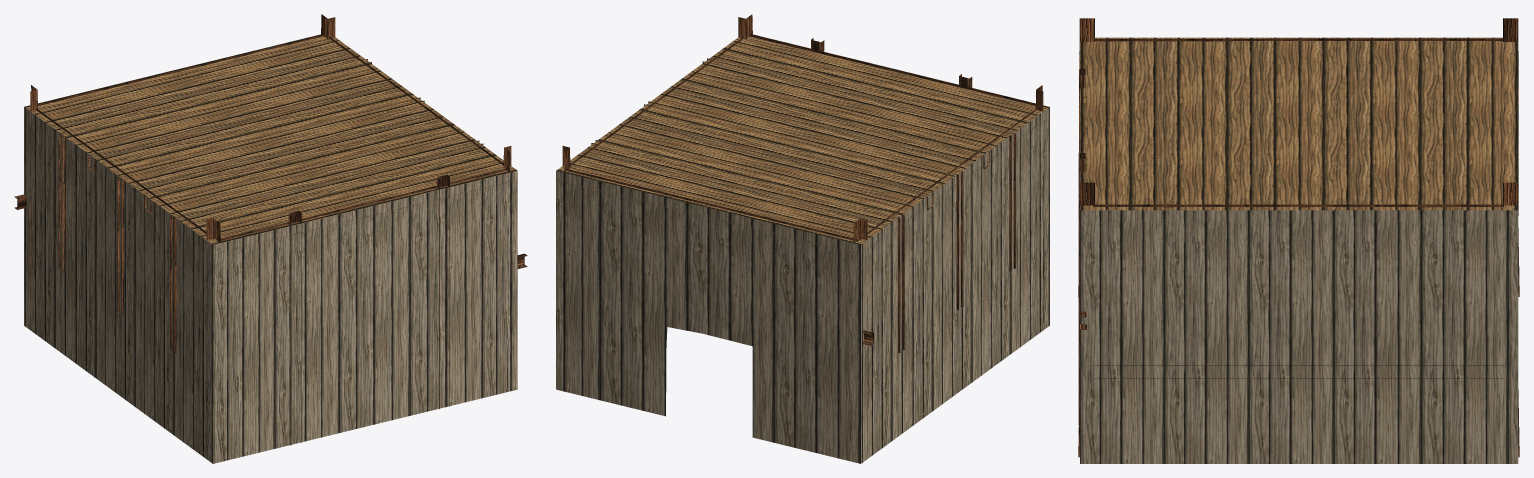
Rendered from LAKETOWN_WAREHOUSE2_PS_WH2_SIDEROOM47466__GX.fbx.
3 views of the same model, side by side, from view 1: azimuth 30°, elevation 25°; view 2: azimuth 150°, elevation 25°; view 3: azimuth 270°, elevation 25° (orthographic). The views are drawn at different scales.
Visible parts, largest first — view 1: LAKETOWN_WAREHOUSE2_PS_WH2_SIDEROOM47466__GX; view 2: LAKETOWN_WAREHOUSE2_PS_WH2_SIDEROOM47466__GX; view 3: LAKETOWN_WAREHOUSE2_PS_WH2_SIDEROOM47466__GX.
Boxes of the visible parts, left/top/right/bottom form: LAKETOWN_WAREHOUSE2_PS_WH2_SIDEROOM47466__GX: left=14, top=14, right=527, bottom=463; LAKETOWN_WAREHOUSE2_PS_WH2_SIDEROOM47466__GX: left=556, top=14, right=1049, bottom=463; LAKETOWN_WAREHOUSE2_PS_WH2_SIDEROOM47466__GX: left=1078, top=18, right=1519, bottom=463.
Bounding box in the file's own units: 106772 × 75219 × 108343.
5 materials, 5 textured.
